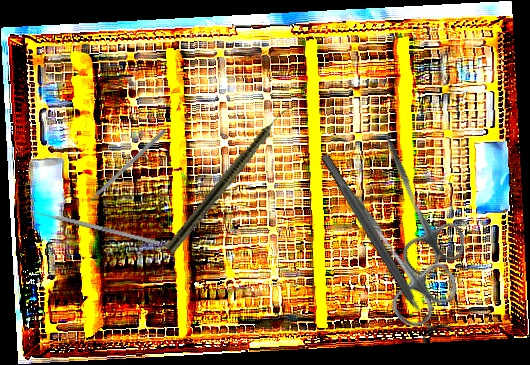Fixation Ring: (309, 145, 454, 349)
Handpiece: (164, 98, 296, 256)
Iris Scissors: (313, 163, 466, 334), (353, 121, 472, 280)
Pusher: (79, 127, 167, 211), (25, 207, 160, 246)
